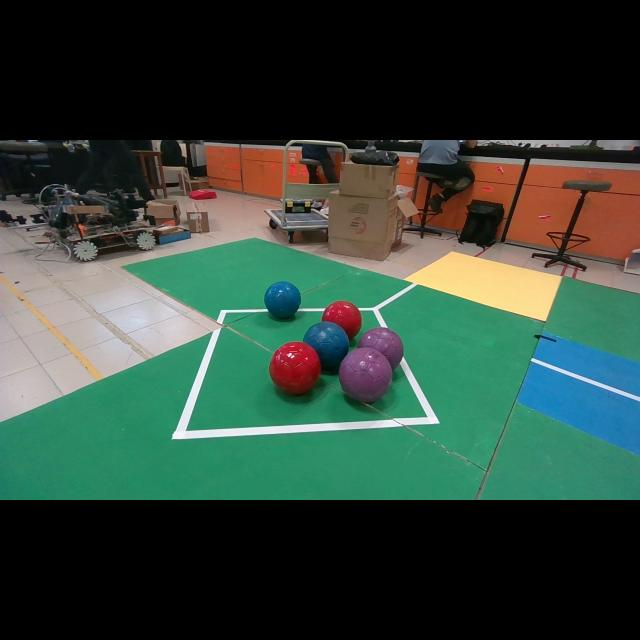B: (304, 321, 349, 369), (264, 281, 301, 319)
P: (339, 348, 392, 402), (358, 328, 404, 369)
R: (269, 341, 321, 395), (321, 300, 362, 339)
